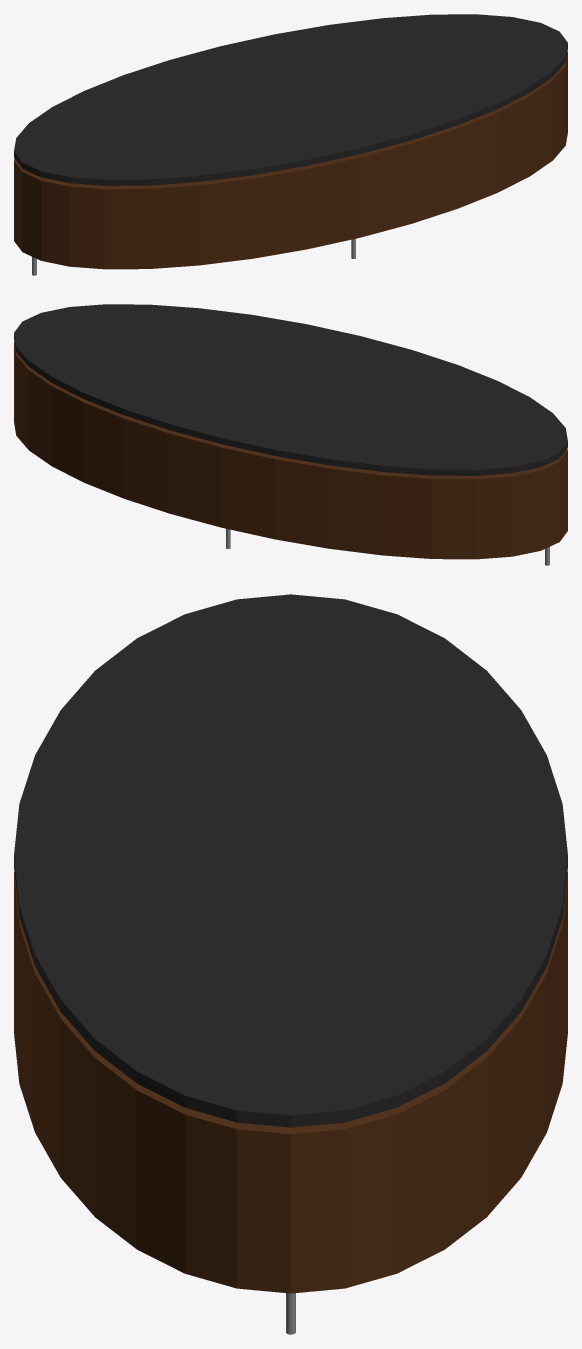
Rendered from LibraryDesk.fbx.
3 renders of one model, top to bottom at view 1: azimuth 30°, elevation 25°; view 2: azimuth 150°, elevation 25°; view 3: azimuth 270°, elevation 25°, orthographic. The views are drawn at different scales.
Parts seen in each view (by area): view 1: Cylinder.009; view 2: Cylinder.009; view 3: Cylinder.009.
Boxes of the visible parts, box(x1,y1,x2,y2) form: Cylinder.009: box(14, 14, 567, 275); Cylinder.009: box(14, 304, 567, 565); Cylinder.009: box(14, 594, 567, 1334).
Bounding box in the file's own units: 445 × 91.14 × 200.
